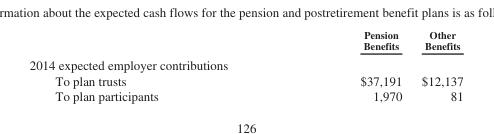table: (28, 28, 462, 103)
table column: (28, 28, 258, 103), (258, 28, 411, 103), (411, 28, 462, 103)
table column header: (28, 28, 462, 54)
table projected row header: (28, 54, 462, 72)
table row: (28, 28, 462, 54), (28, 54, 462, 72), (28, 72, 462, 88), (28, 88, 462, 103)
